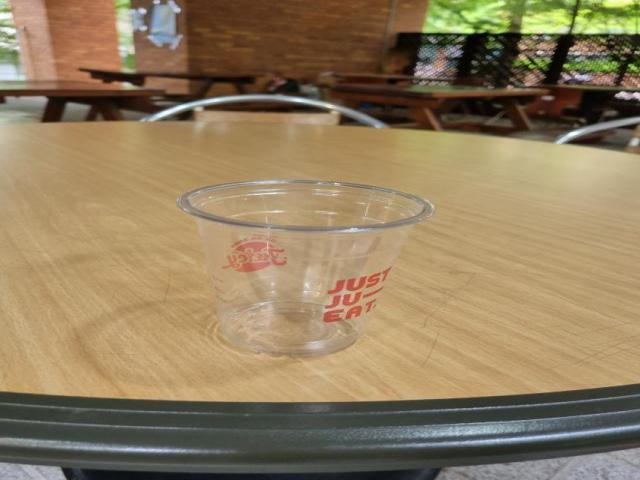cup: (168, 172, 446, 362)
